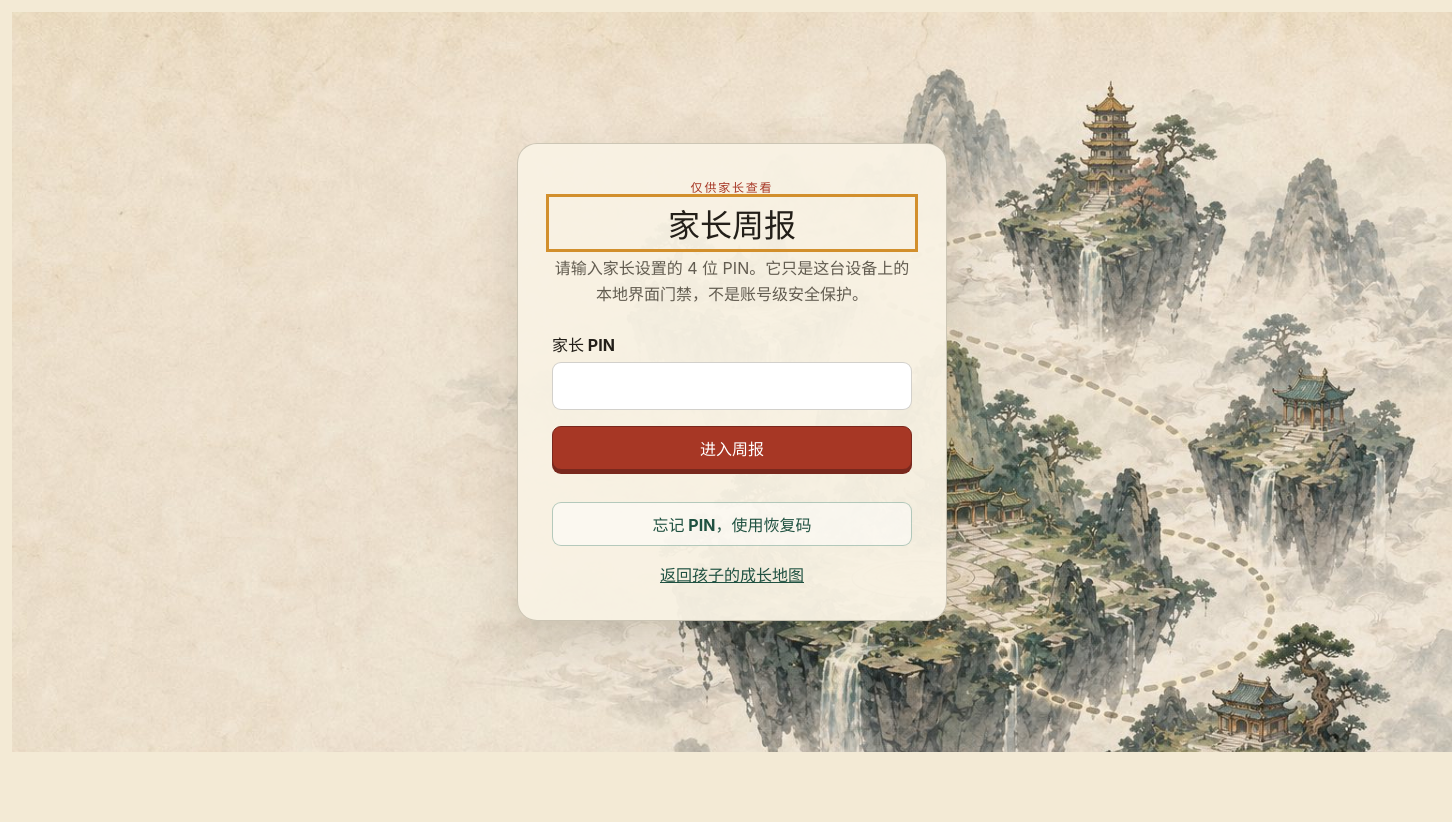
Test: ParentAccessGate › keeps the old PIN and recovery valid when a PIN change is abandoned before confirmation
Type "4826" into the password field labelled "家长 PIN" at (732, 386), box [552,362,912,410]
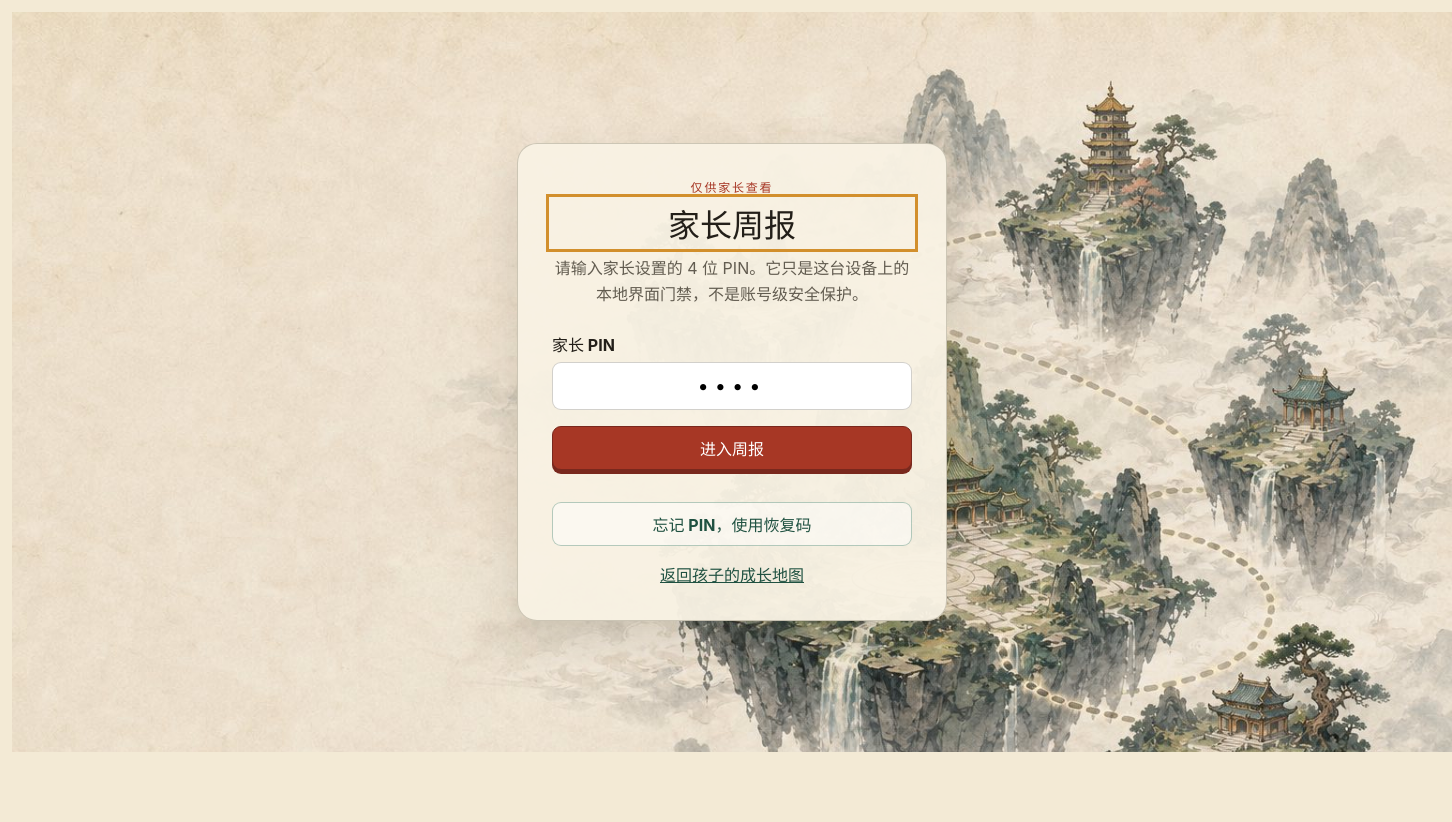
Click the button "进入周报" at (732, 448), box [552,426,912,470]
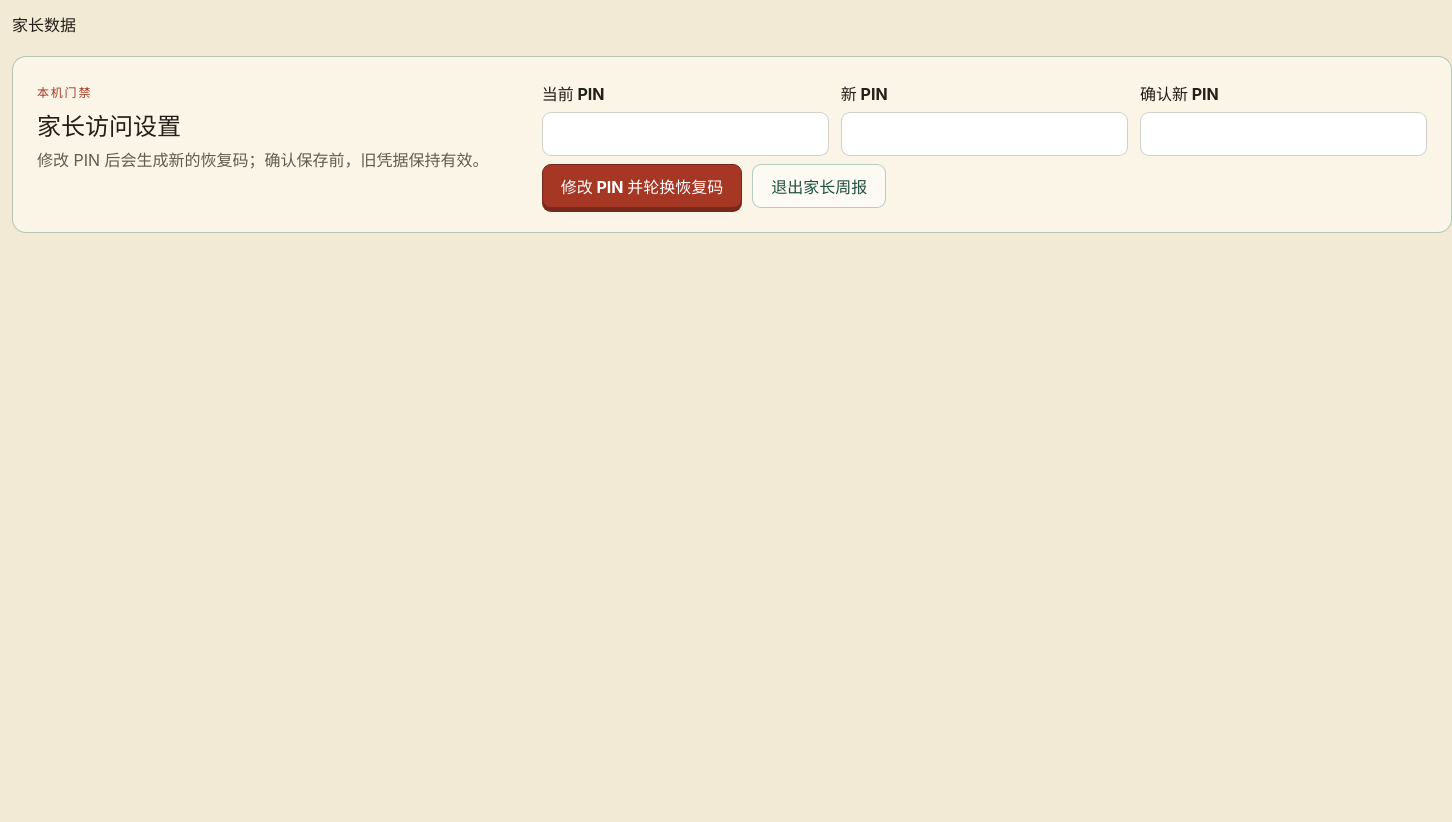
Expected: the text "家长数据" is shown, [12,15,76,35]
Type "4826" into the password field labelled "当前 PIN" at (685, 134), box [542,112,829,156]
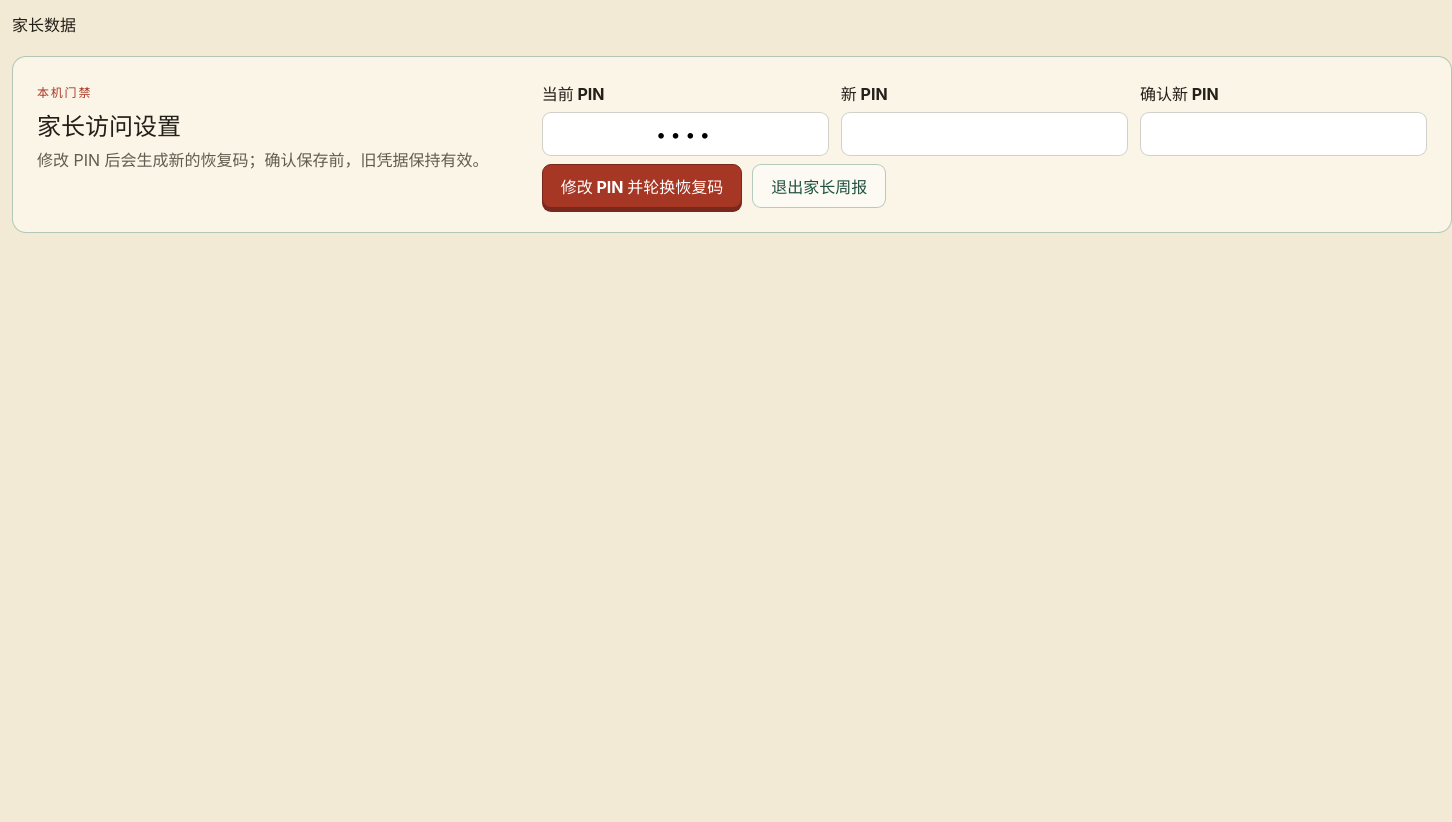
Type "7319" into the password field labelled "新 PIN" at (984, 134), box [841,112,1128,156]
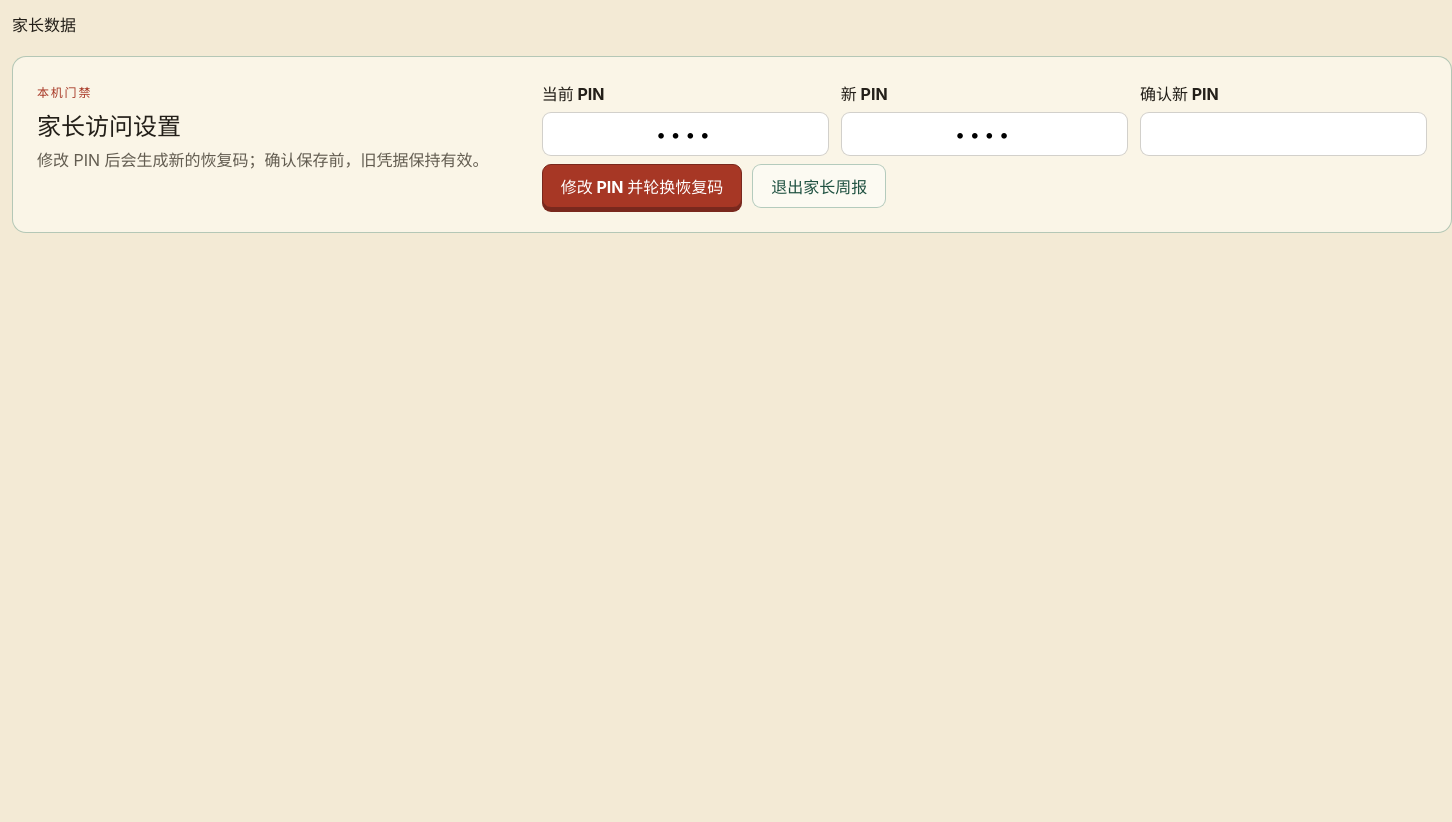
Type "7319" into the password field labelled "确认新 PIN" at (1283, 134), box [1140,112,1427,156]
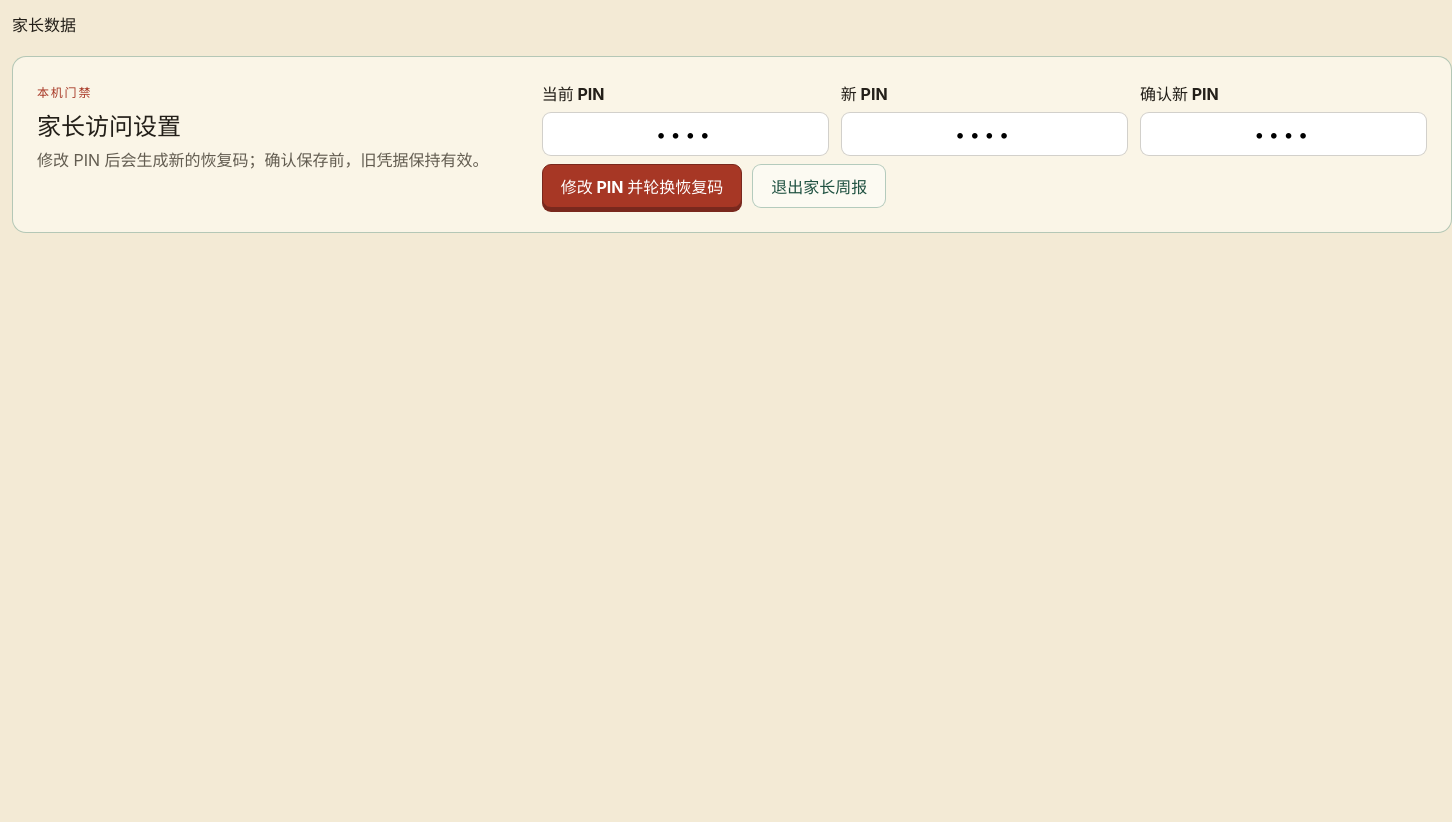
Click the button "修改 PIN 并轮换恢复码" at (642, 186), box [542,164,742,208]
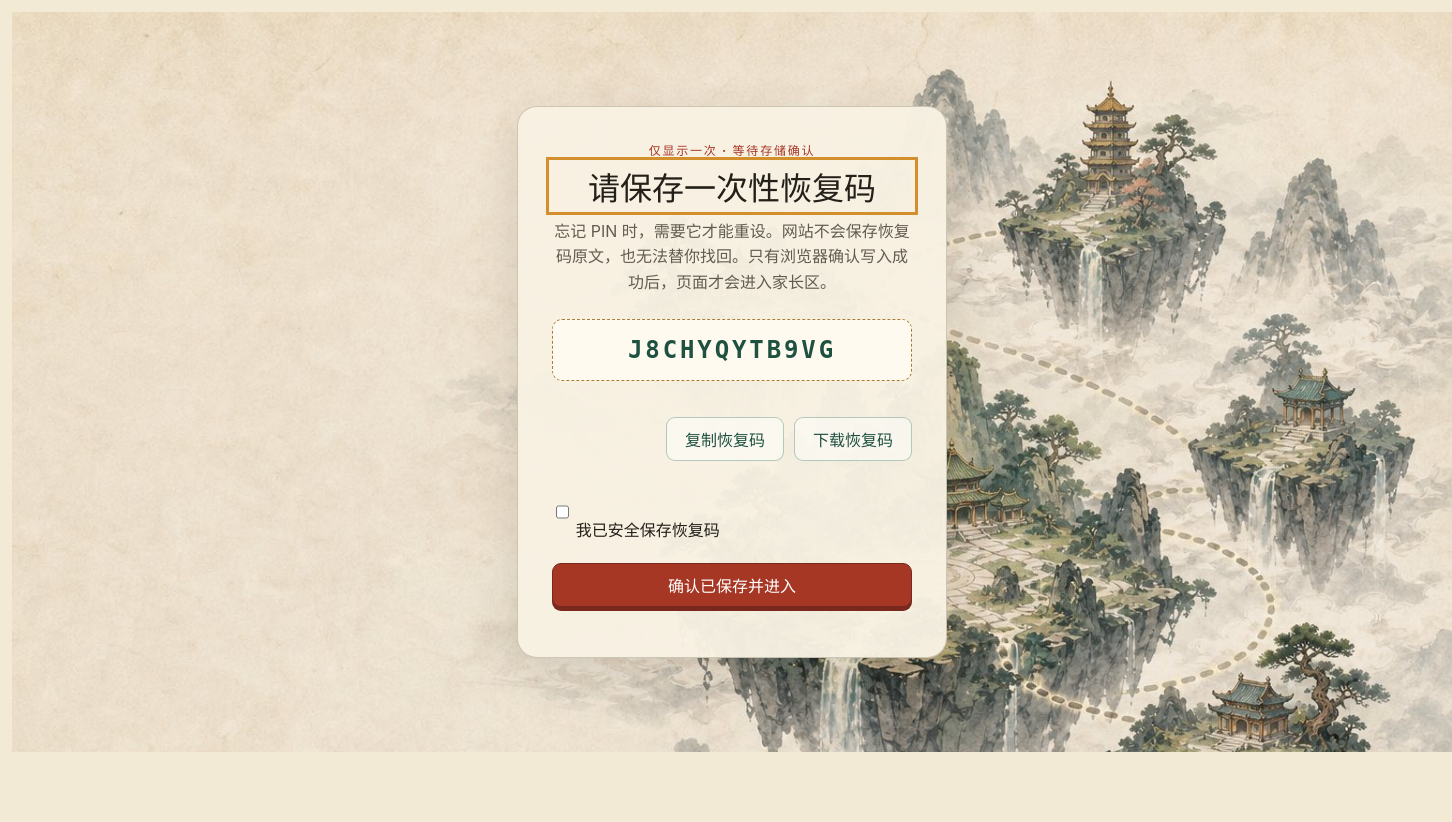
Expected: the heading "请保存一次性恢复码" is shown, [588,171,876,207]
